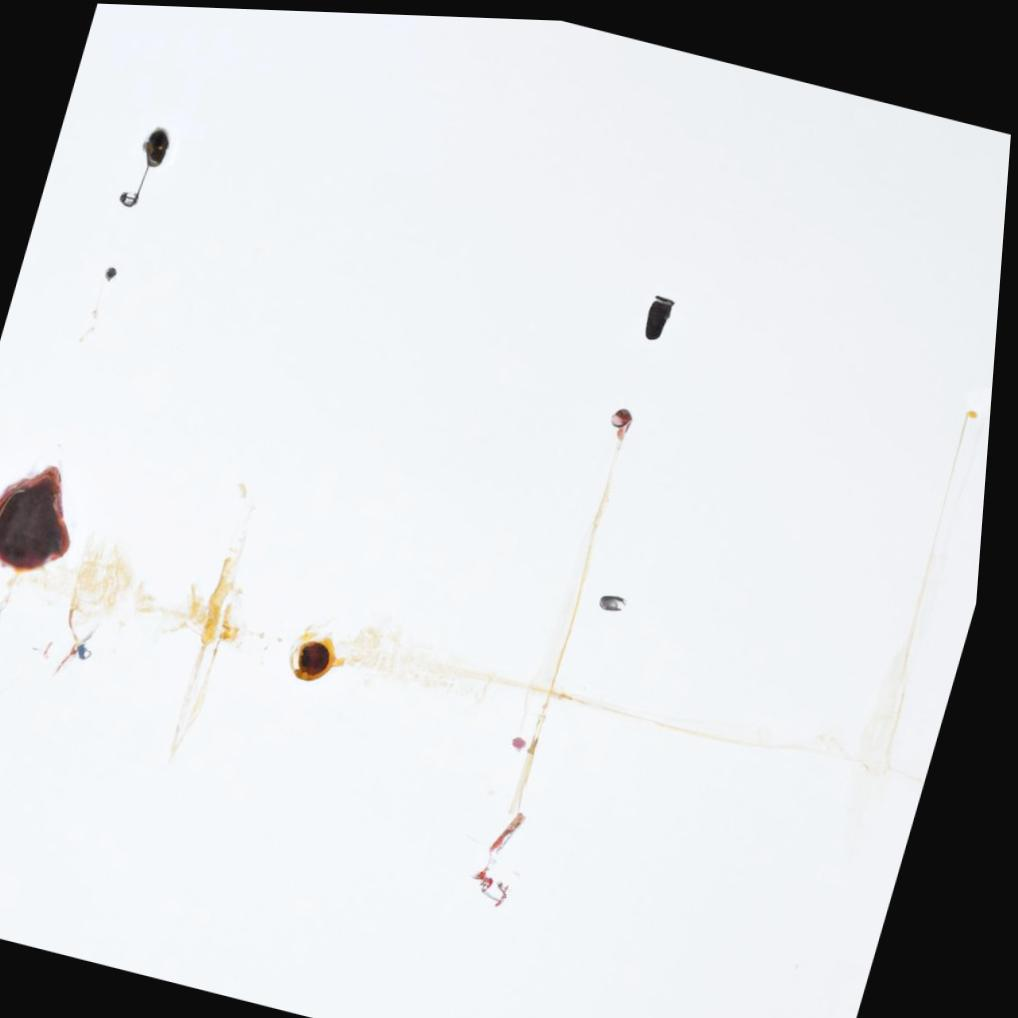Fire: (0, 466, 79, 575)
